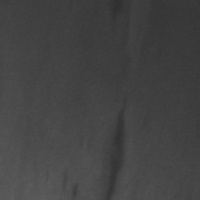inclusion: (87, 88, 134, 199), (104, 5, 130, 44), (54, 166, 84, 199)
